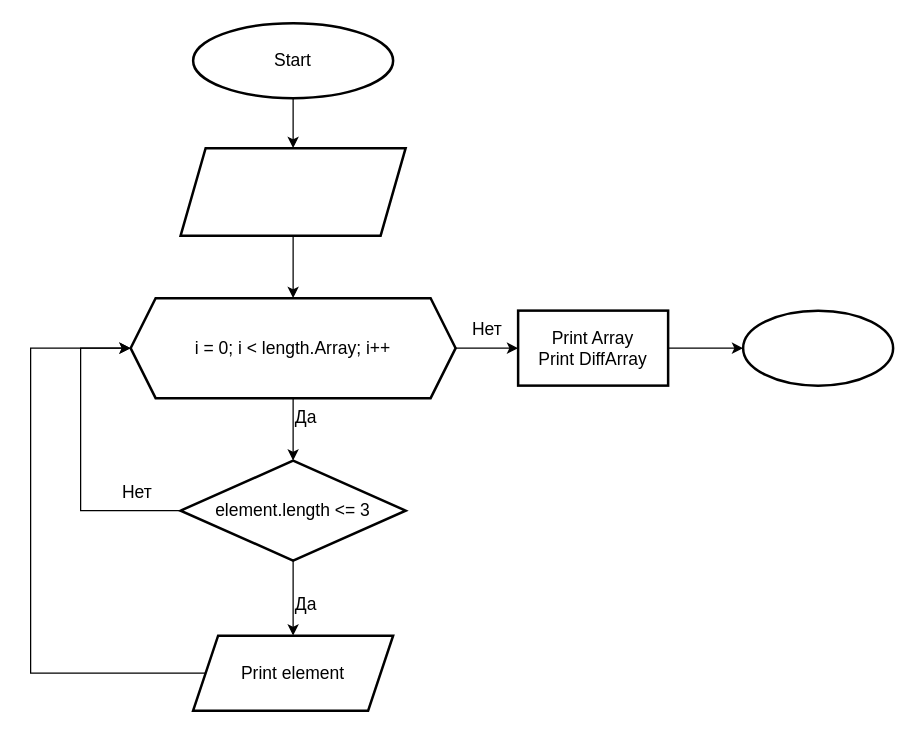
Image size: 916x733. Some labels were removed from this diagram. The shapes that lost their labels are listed below. From the top down, each one's centre as x and y in pixels, then its label:
At (292,191): "Array 1 Array 2 Array 3 string element".
At (817,347): "End".
